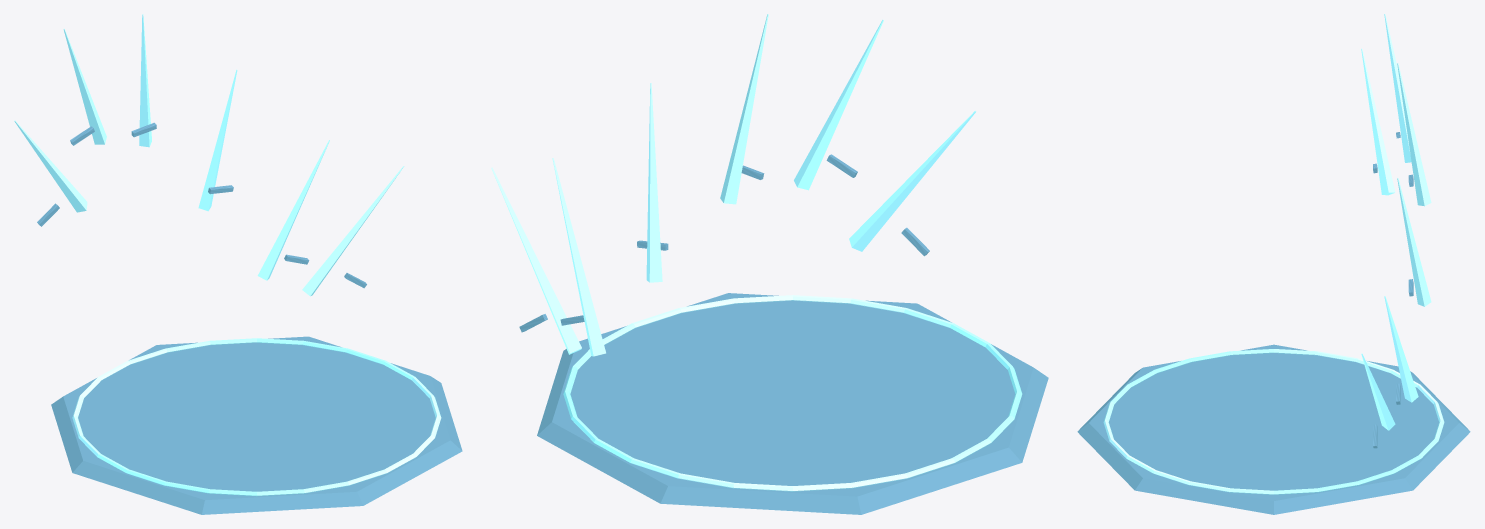
The model's file is murim-sword-aura.glb.
3 views of the same model, side by side, from view 1: azimuth 30°, elevation 25°; view 2: azimuth 150°, elevation 25°; view 3: azimuth 270°, elevation 25° (orthographic). The views are drawn at different scales.
Parts seen in each view (by area): view 1: TS_StageProp_murim-sword-aura; view 2: TS_StageProp_murim-sword-aura; view 3: TS_StageProp_murim-sword-aura.
Part boxes in pixels (<box>): TS_StageProp_murim-sword-aura: <box>14,14,462,514</box>; TS_StageProp_murim-sword-aura: <box>491,14,1048,514</box>; TS_StageProp_murim-sword-aura: <box>1077,14,1470,514</box>.
Size of the model in its own units: 1.44 by 1.37 by 1.36.
Materials: 1 (1 with a texture image).
